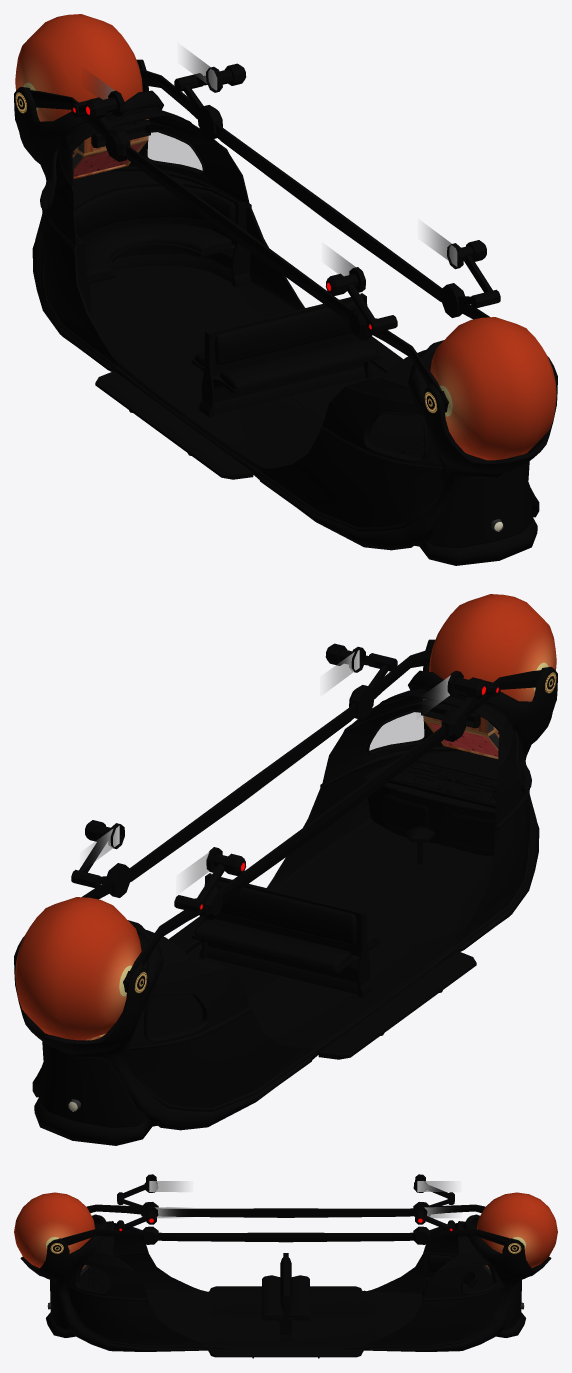
File: Train_02_Art.glb
3 views of the same model, one above another, from view 1: azimuth 30°, elevation 25°; view 2: azimuth 150°, elevation 25°; view 3: azimuth 270°, elevation 25° (orthographic). The views are drawn at different scales.
Parts seen in each view (by area): view 1: Train_02_Art; view 2: Train_02_Art; view 3: Train_02_Art.
Part boxes in pixels (x1=…): Train_02_Art: x1=14, y1=14, x2=557, y2=565; Train_02_Art: x1=14, y1=594, x2=557, y2=1145; Train_02_Art: x1=14, y1=1174, x2=557, y2=1358.
Size of the model in its own units: 5.02 by 4.58 by 16.59.
Materials: 4 (3 with a texture image).
